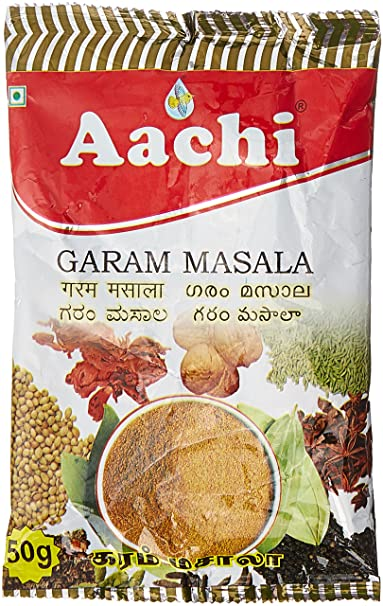VEG: (6, 82, 30, 108)
